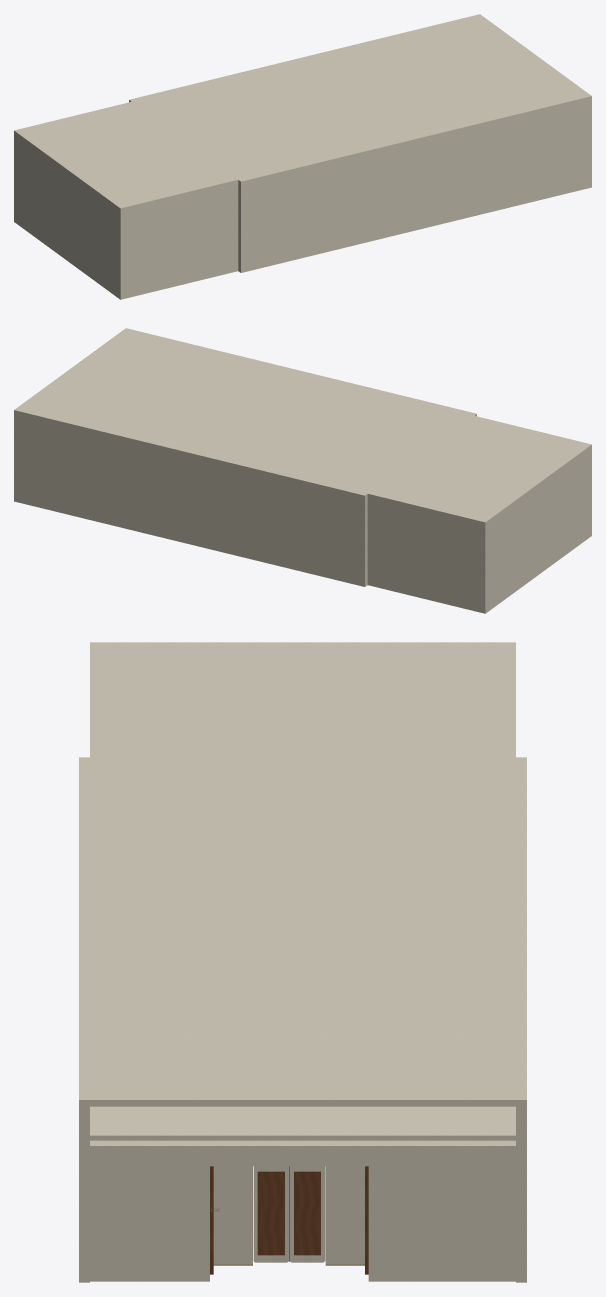
3 views of the same model, one above another, from view 1: azimuth 30°, elevation 25°; view 2: azimuth 150°, elevation 25°; view 3: azimuth 270°, elevation 25° (orthographic). The views are drawn at different scales.
Parts seen in each view (by area): view 1: UpperPressureClosure, SouthAcousticWall, GalleryPressureClosure, GalleryAftEndWall, HeldGalleryOutwardWall; view 2: UpperPressureClosure, NorthAcousticWall, GalleryPressureClosure, GalleryForeEndWall, HeldGalleryOutwardWall; view 3: UpperPressureClosure, GalleryPressureClosure, EntryForeReturn, EntryAftReturn, RisingLivingRoof, EntryHeader, PrivateEntry_01_ENTRY_PocketSkin_-1_1, PrivateEntry_01_ENTRY_PocketSkin_1_1, PrivateEntry_01_ENTRY_TimberInset_RIGHT_1, PrivateEntry_01_ENTRY_TimberInset_LEFT_1, NorthAcousticWall, SouthAcousticWall (+2 smaller).
Boxes of the visible parts, <box> form: UpperPressureClosure: <box>129,14,591,184</box>; SouthAcousticWall: <box>238,99,591,272</box>; GalleryPressureClosure: <box>14,100,245,211</box>; GalleryAftEndWall: <box>125,183,238,298</box>; HeldGalleryOutwardWall: <box>14,134,125,299</box>; UpperPressureClosure: <box>14,328,476,498</box>; NorthAcousticWall: <box>14,413,367,586</box>; GalleryPressureClosure: <box>360,415,591,525</box>; GalleryForeEndWall: <box>367,497,480,612</box>; HeldGalleryOutwardWall: <box>480,448,591,613</box>; UpperPressureClosure: <box>79,757,526,1106</box>; GalleryPressureClosure: <box>90,642,515,764</box>; EntryForeReturn: <box>368,1140,515,1281</box>; EntryAftReturn: <box>90,1140,209,1281</box>; RisingLivingRoof: <box>90,1106,515,1140</box>; EntryHeader: <box>210,1140,368,1166</box>; PrivateEntry_01_ENTRY_PocketSkin_-1_1: <box>325,1166,364,1264</box>; PrivateEntry_01_ENTRY_PocketSkin_1_1: <box>213,1166,252,1264</box>; PrivateEntry_01_ENTRY_TimberInset_RIGHT_1: <box>257,1171,284,1255</box>; PrivateEntry_01_ENTRY_TimberInset_LEFT_1: <box>294,1171,320,1255</box>; NorthAcousticWall: <box>516,1106,526,1282</box>; SouthAcousticWall: <box>79,1106,89,1282</box>.
Bounding box in the file's own units: 23.88 × 4.45 × 9.88.
Materials: 179 (172 with a texture image).
